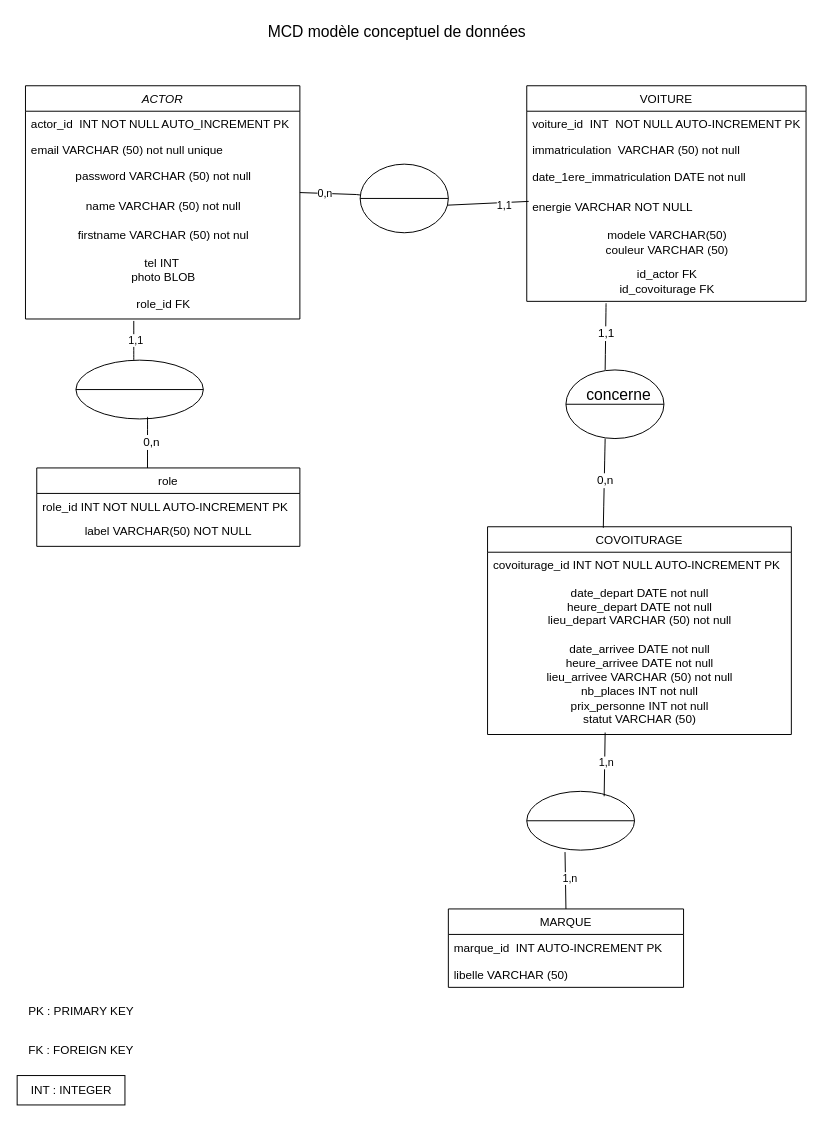
This 823x1122 diagram has some shape labels left out. The centre of each missing label's shape, as x and y in pixels:
"détient" goes at point (580, 820).
"gère" goes at point (403, 198).
"possède" goes at point (139, 389).
